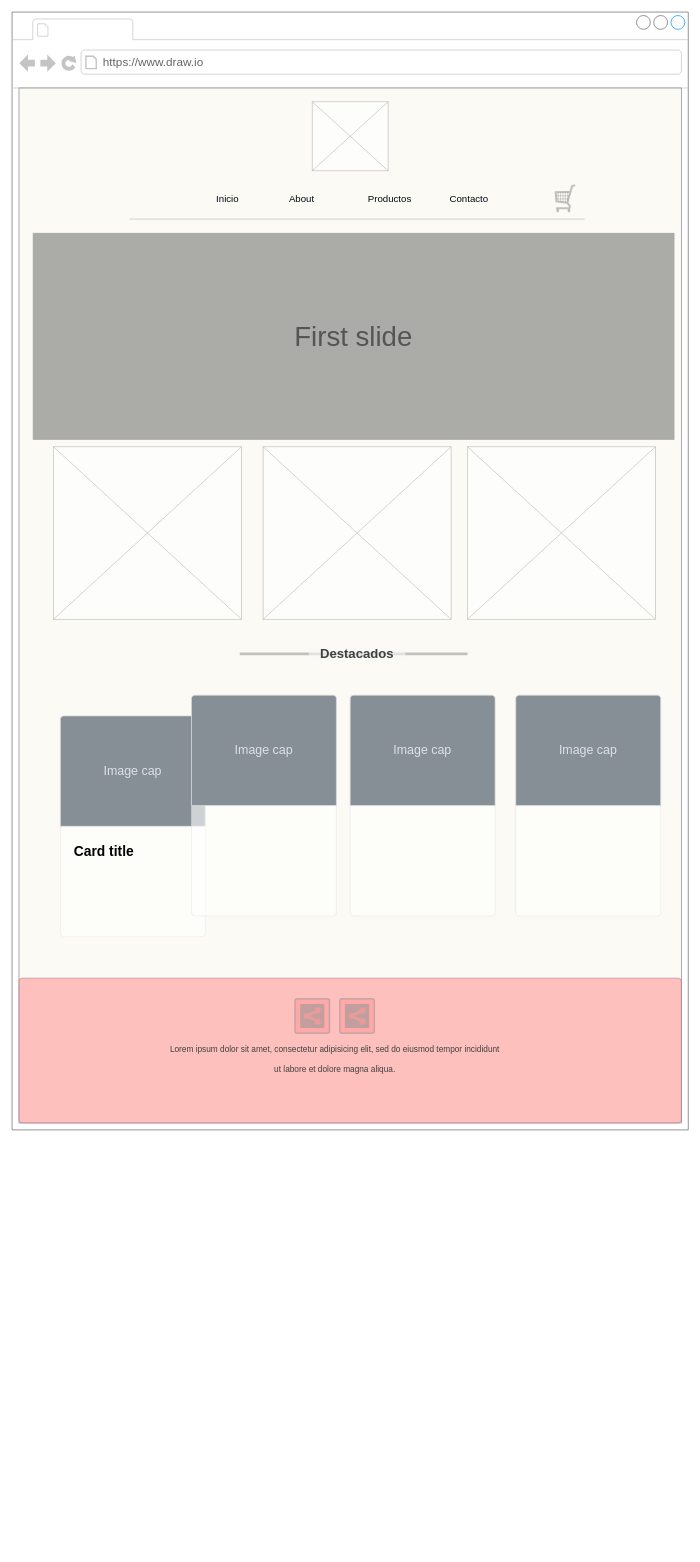
This 700x1562 diagram has some shape labels left out. Each missing label, with the box of its shape:
Log o: (312, 101, 388, 171)
Page 1: (53, 20, 129, 38)
